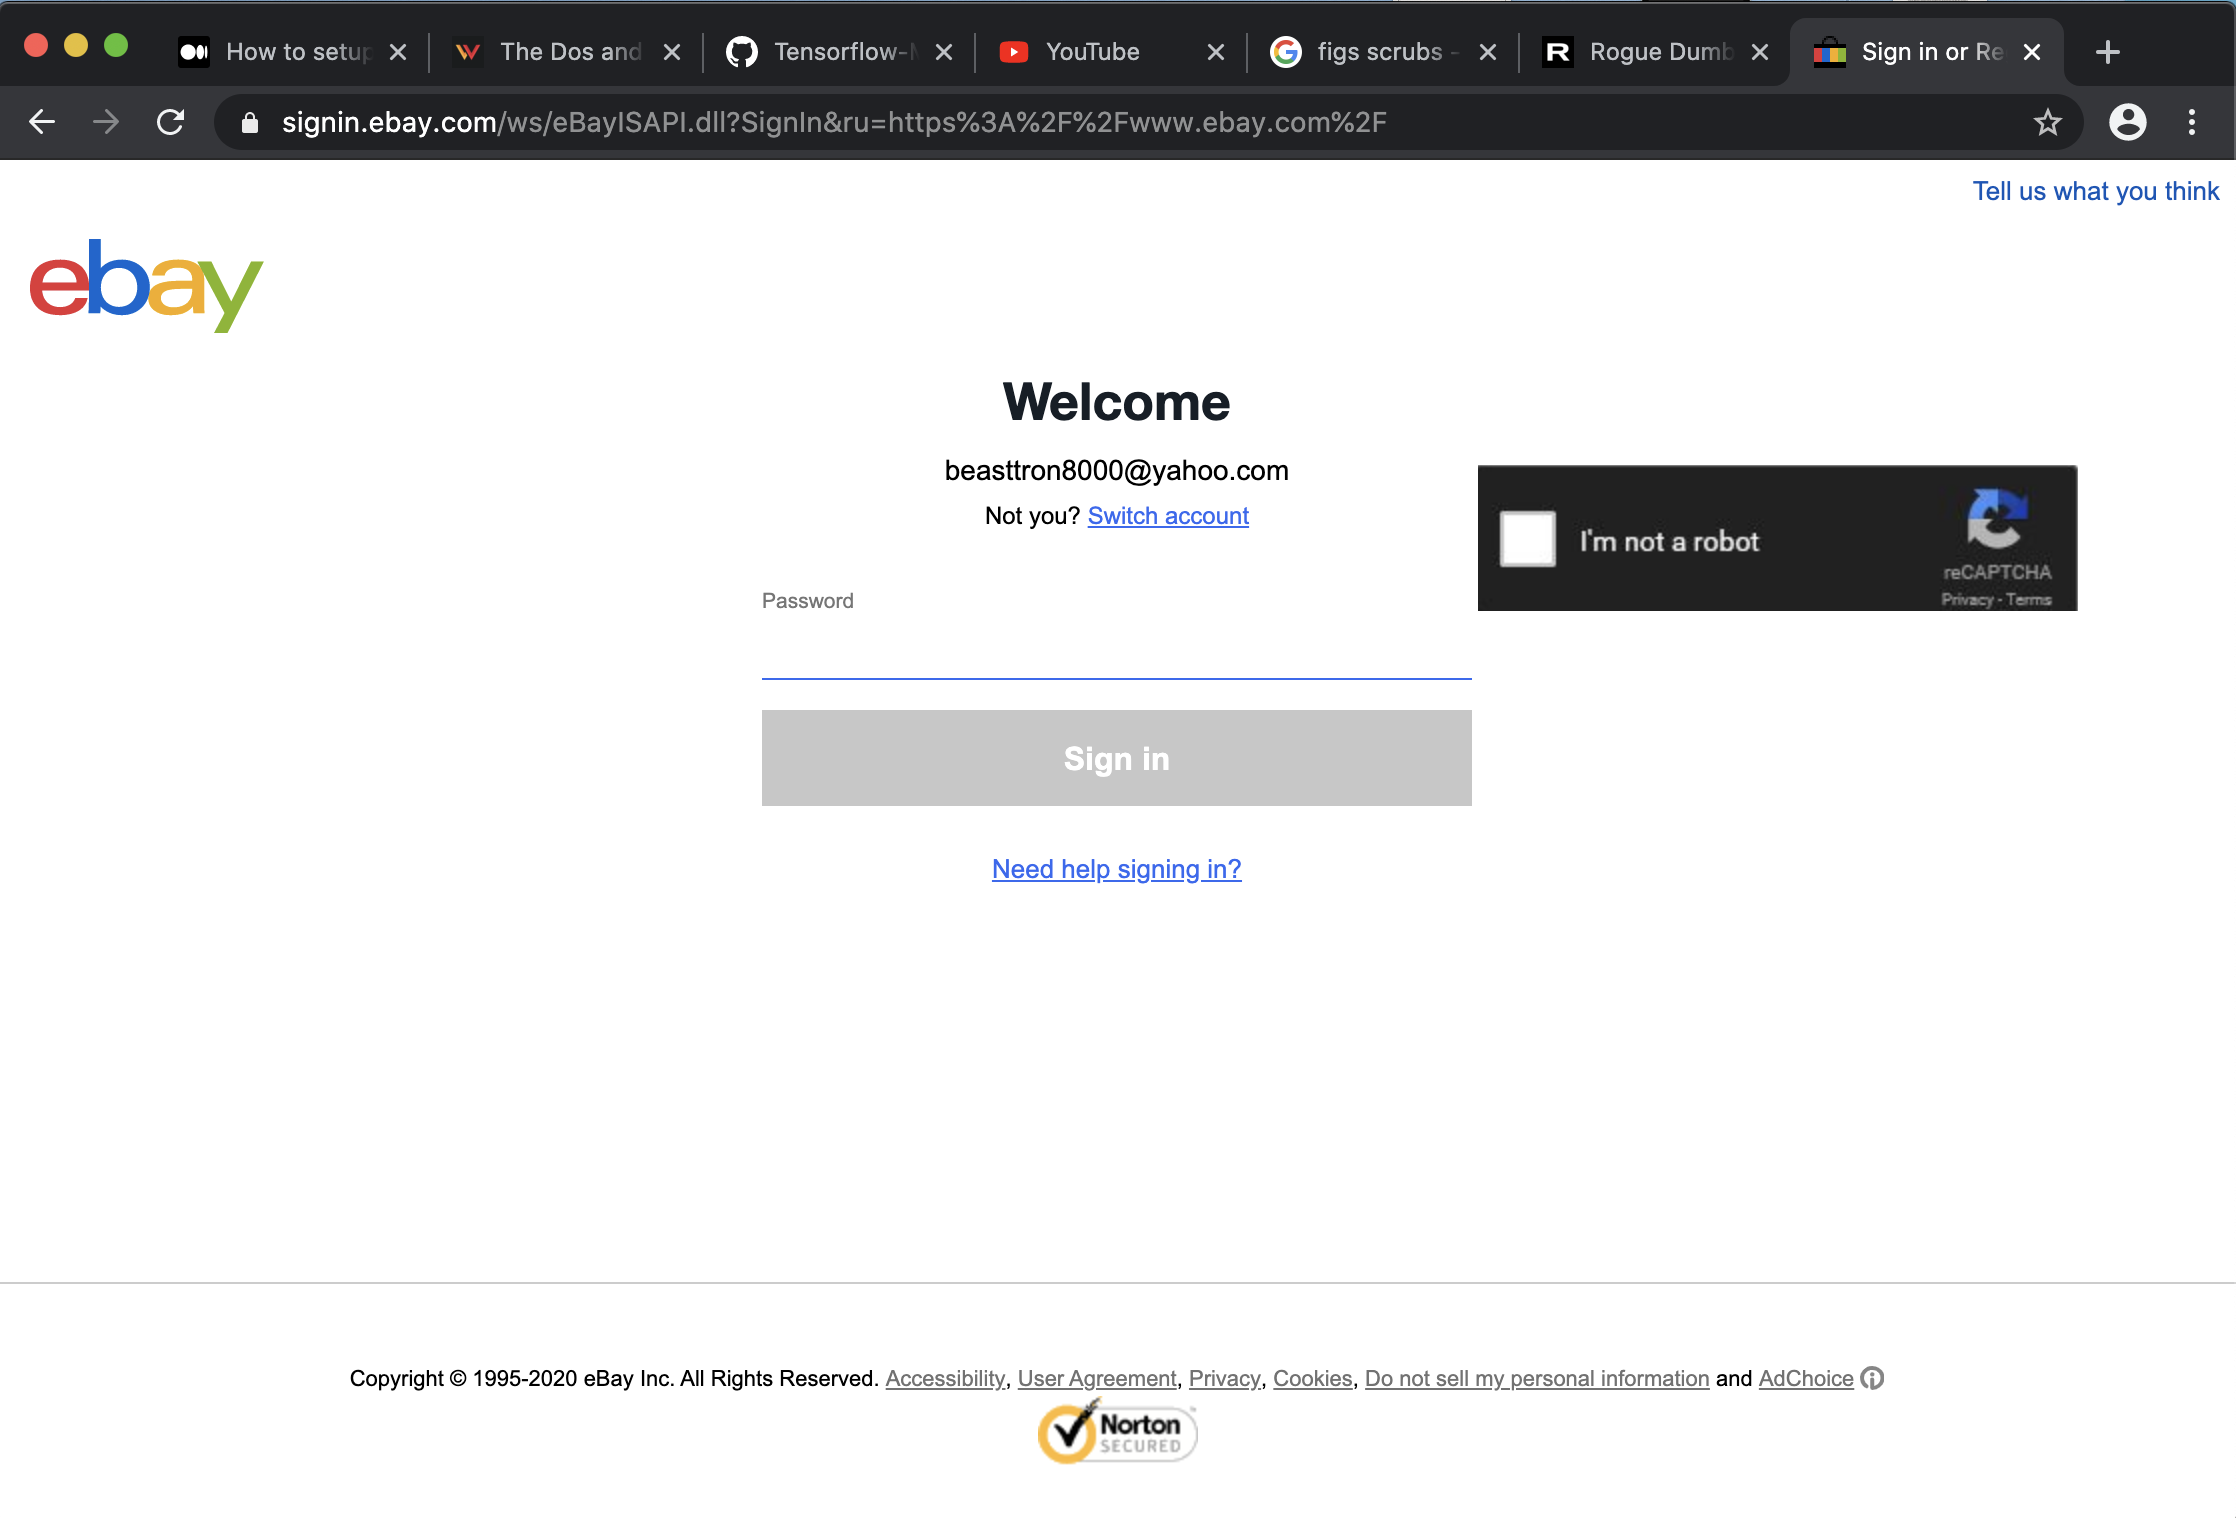captcha: (1469, 457, 2099, 625)
